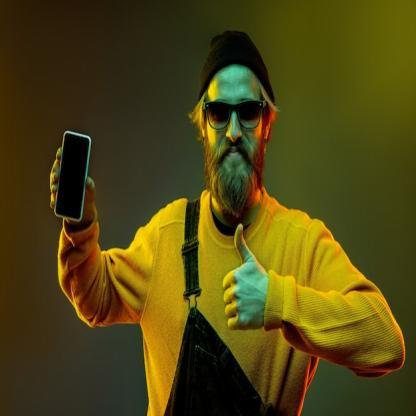thumb_up: (221, 220, 272, 334)
